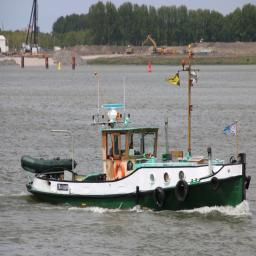tugboat: (20, 102, 253, 218)
